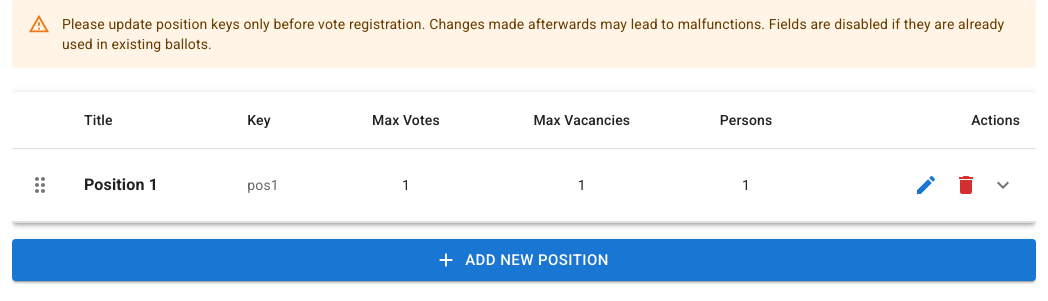
Test: Positions › enters edit mode for a position
This screenshot has width=1048, height=301.
Click the button named "Edit Position". click: [926, 185]
box: [906, 165, 946, 205]
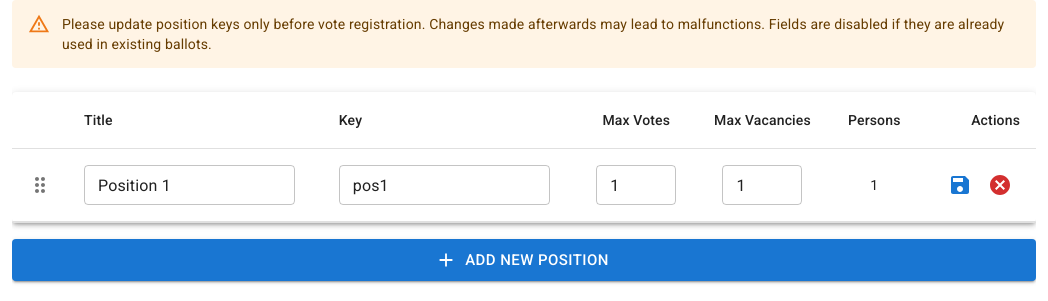
Now the field with placeholder "Title" holds "Position 1", box [84, 165, 295, 205]
Now the field with placeholder "Key" holds "pos1", box [339, 165, 550, 205]
